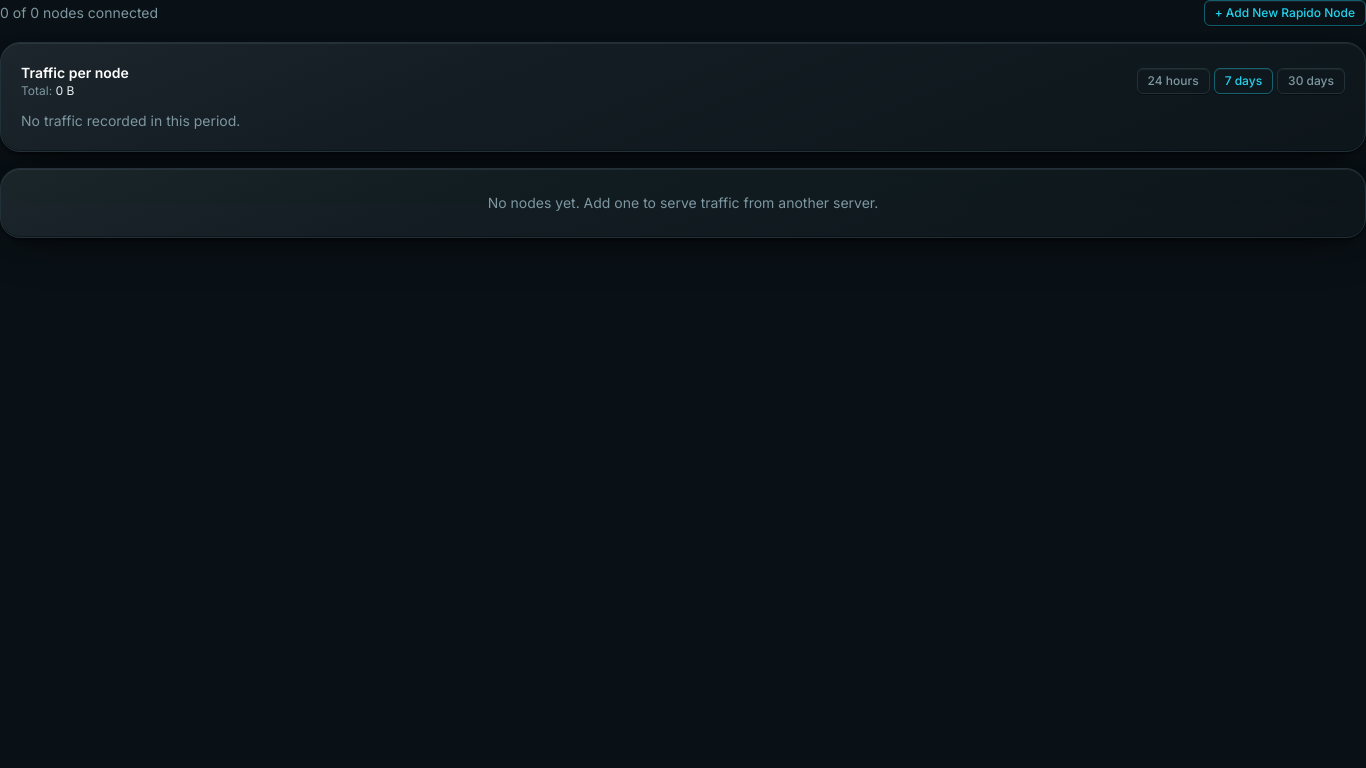
Test: Advanced section of the node form › shows any other rejection in the box at the bottom, as before
Click the button "+ Add New Rapido Node": click(1285, 13) 1204,0 -> 1365,26
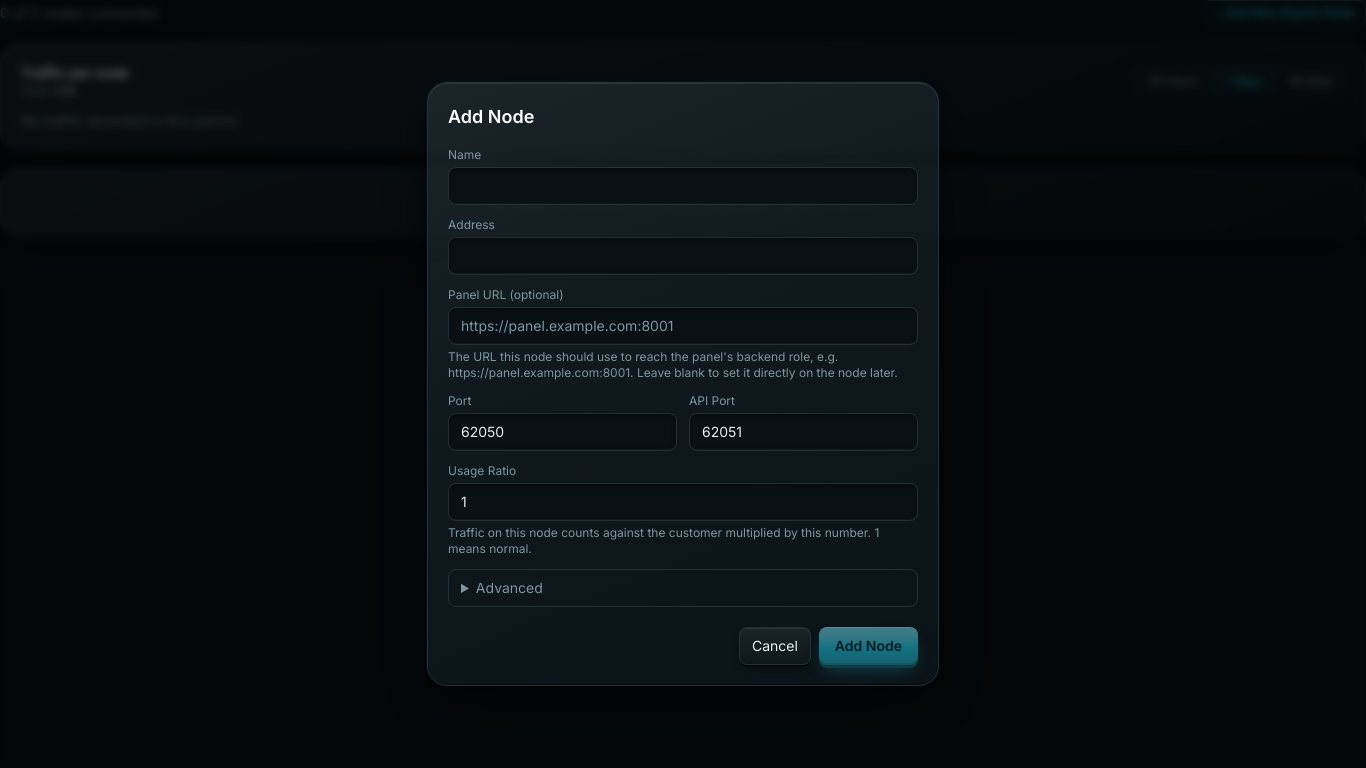
In the field labelled "Name": (683, 186) 448,167 -> 918,205, type "fresh"
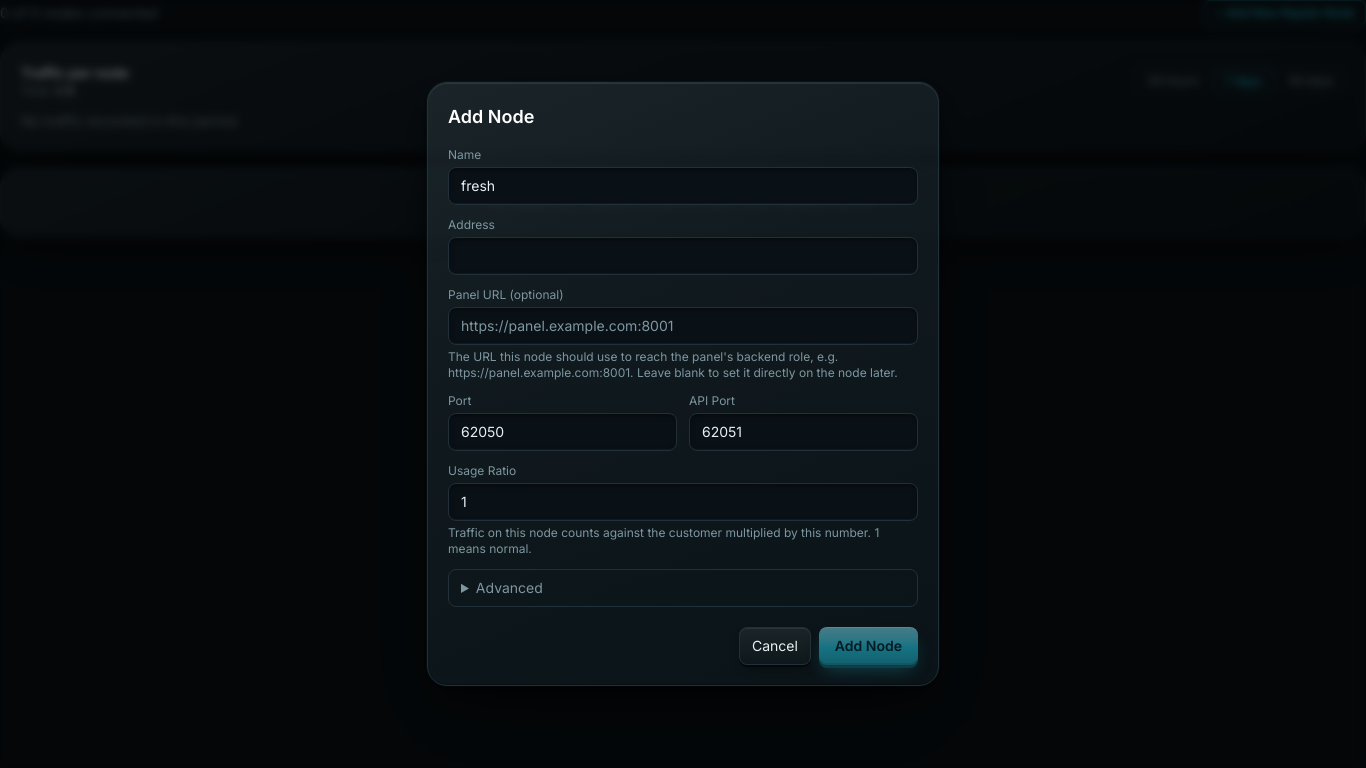
In the field labelled "Address": (683, 256) 448,237 -> 918,275, type "203.0.113.5"
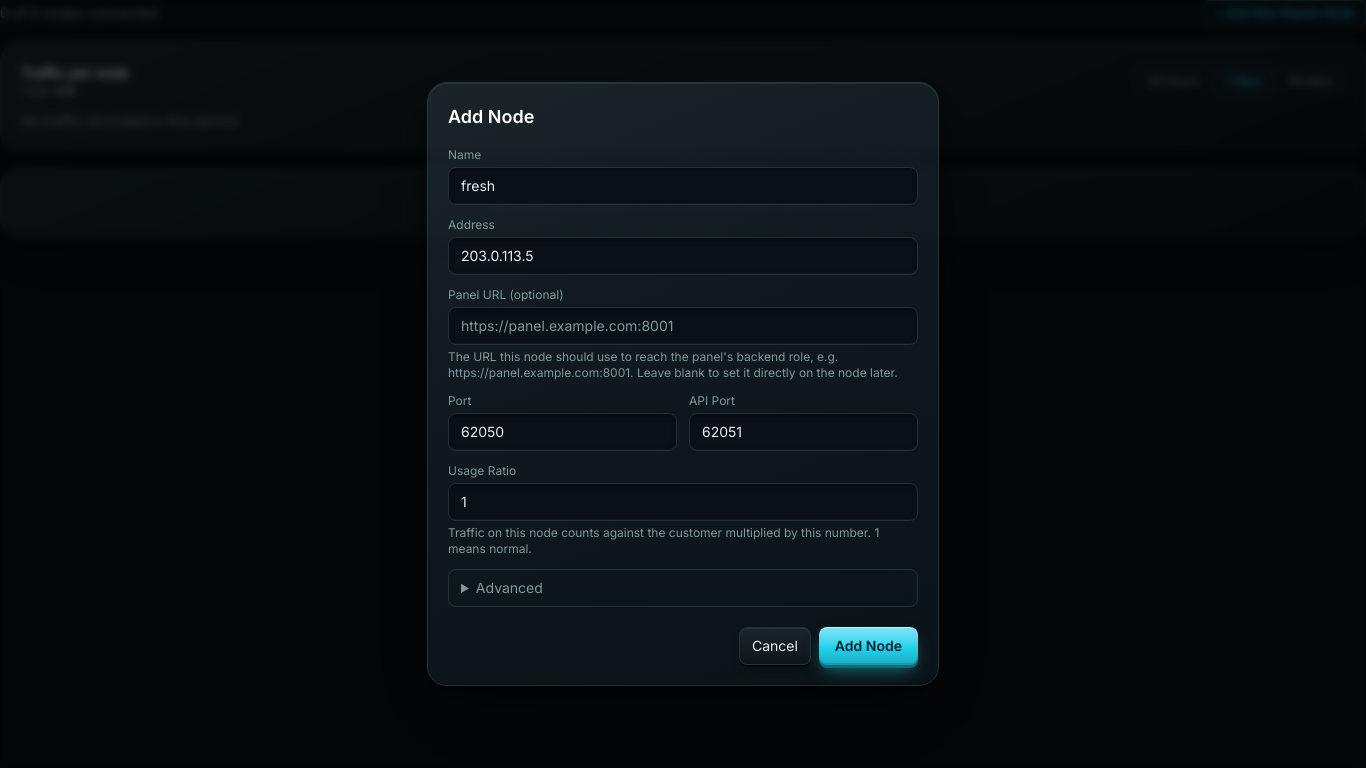
Click the button "Add Node": click(868, 646) 819,627 -> 918,665
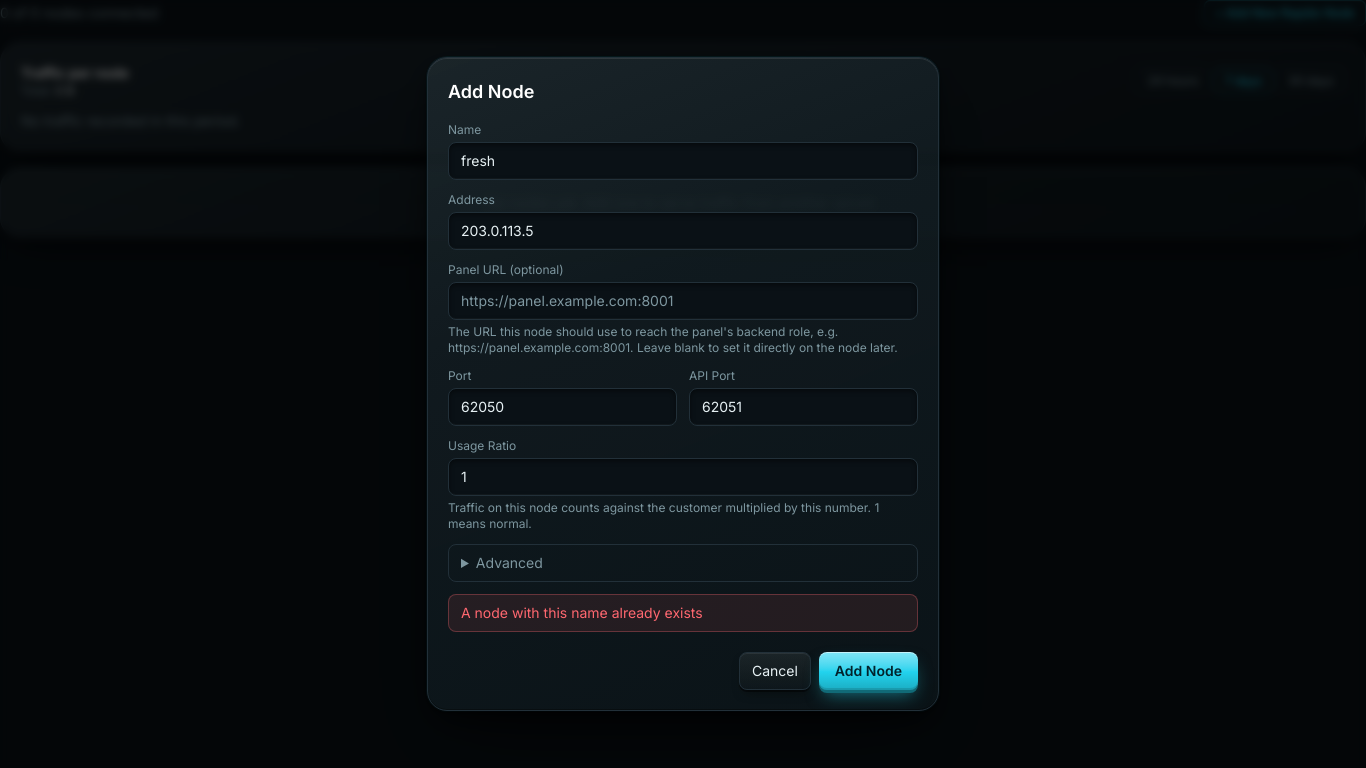
expect the text "A node with this name already exists" is shown: met, box 448,594 -> 918,632
